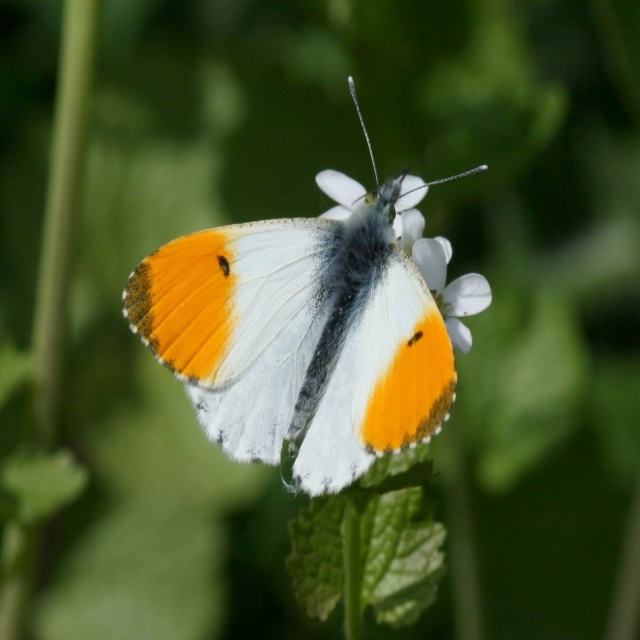Butterfly: (129, 76, 482, 516)
